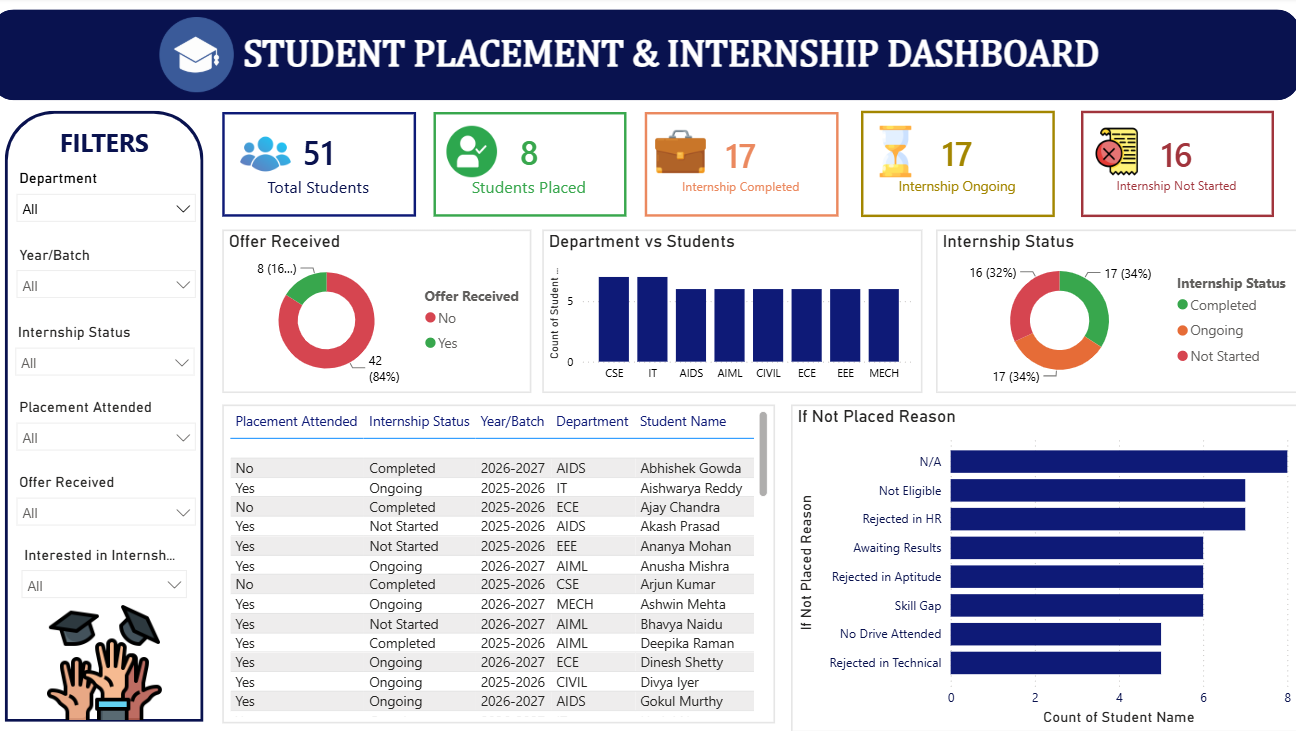

The page's visual inventory and layout, read from the dashboard file:
{"tool":"powerbi","page":{"name":"Page 1","canvas":[1280,720],"ordinal":0},"visuals":[{"type":"cardVisual","fields":{"Data":["Sheet.Total Students"]},"box":[226.1,112.4,189.9,102.4],"z":0},{"type":"cardVisual","fields":{"Data":["Sheet.Students Placed"]},"box":[433.4,112.4,188.6,102.4],"z":1000},{"type":"cardVisual","fields":{"Data":["Sheet.Internship Completed"]},"box":[639.5,112.4,189.9,102.4],"z":2000},{"type":"cardVisual","fields":{"Data":["Sheet.Internship Ongoing"]},"box":[850.6,111.2,189.9,103.7],"z":3000},{"type":"cardVisual","fields":{"Data":["Sheet.Internship Not Started"]},"box":[1066.7,111.2,188.6,103.7],"z":4000},{"type":"shape","box":[0,12.5,1280.3,88.7],"z":5000},{"type":"textbox","box":[242.3,30,865.6,55],"z":6000},{"type":"shape","box":[13.5,111.3,194.4,598],"z":7000},{"type":"slicer","fields":{"Values":["Sheet.Department"]},"box":[14.7,163.9,195.7,74.6],"z":8000},{"type":"slicer","fields":{"Values":["Sheet.Year/Batch"]},"box":[14.7,238.5,195.7,73.4],"z":9000},{"type":"slicer","fields":{"Values":["Sheet.Internship Status"]},"box":[13.5,314.3,195.7,73.4],"z":10000},{"type":"slicer","fields":{"Values":["Sheet.Placement Attended"]},"box":[14.7,387.6,195.7,73.4],"z":11000},{"type":"slicer","fields":{"Values":["Sheet.Interested in Internship"]},"box":[19.6,531.9,182.2,73.4],"z":12000},{"type":"slicer","fields":{"Values":["Sheet.Offer Received"]},"box":[14.7,461,195.7,70.9],"z":13000},{"type":"donutChart","title":"Offer Received","fields":{"Category":["Sheet.Offer Received"],"Y":["CountNonNull(Sheet.Student Name)"]},"box":[226.1,227.3,302.3,159.9],"z":14000},{"type":"donutChart","title":"Internship Status","fields":{"Category":["Sheet.Internship Status"],"Y":["CountNonNull(Sheet.Student Name)"]},"box":[924.3,227.3,356,159.9],"z":15000},{"type":"clusteredColumnChart","title":"Department vs Students","fields":{"Category":["Sheet.Department"],"Y":["CountNonNull(Sheet.Student Name)"]},"box":[539.6,227.3,372.2,159.9],"z":16000},{"type":"clusteredBarChart","title":"If Not Placed Reason","fields":{"Category":["Sheet.If Not Placed Reason"],"Y":["CountNonNull(Sheet.Student Name)"]},"box":[783.1,398.4,497.1,321],"z":17000},{"type":"tableEx","fields":{"Values":["Sheet.Placement Attended","Sheet.Internship Status","Sheet.Year/Batch","Sheet.Department","Sheet.Student Name"]},"box":[226.1,398.4,540.8,312.3],"z":18000},{"type":"image","box":[242.1,128.4,52.6,50],"z":19000},{"type":"image","box":[443.9,126,52.6,50.1],"z":19001},{"type":"image","box":[648.1,126,52.6,50.1],"z":19002},{"type":"image","box":[858.4,126,52.6,50.1],"z":19003},{"type":"image","box":[1074.9,126,52.6,50.1],"z":19004},{"type":"image","box":[30.6,593.1,160.2,116.2],"z":19006},{"type":"image","box":[145.5,19.6,111.3,73.4],"z":19007}]}

Visuals, with their boxes in screenshot pixels (x1, y1, x2, y2), scaled from the page's 1280x720 canvas onto the 1296x731 screenshot:
cardVisual - Sheet.Total Students: pyautogui.locateOnScreen(229, 114, 421, 218)
cardVisual - Sheet.Students Placed: pyautogui.locateOnScreen(439, 114, 630, 218)
cardVisual - Sheet.Internship Completed: pyautogui.locateOnScreen(647, 114, 840, 218)
cardVisual - Sheet.Internship Ongoing: pyautogui.locateOnScreen(861, 113, 1054, 218)
cardVisual - Sheet.Internship Not Started: pyautogui.locateOnScreen(1080, 113, 1271, 218)
shape: pyautogui.locateOnScreen(0, 13, 1295, 103)
textbox: pyautogui.locateOnScreen(245, 30, 1122, 86)
shape: pyautogui.locateOnScreen(14, 113, 210, 720)
slicer - Sheet.Department: pyautogui.locateOnScreen(15, 166, 213, 242)
slicer - Sheet.Year/Batch: pyautogui.locateOnScreen(15, 242, 213, 317)
slicer - Sheet.Internship Status: pyautogui.locateOnScreen(14, 319, 212, 394)
slicer - Sheet.Placement Attended: pyautogui.locateOnScreen(15, 394, 213, 468)
slicer - Sheet.Interested in Internship: pyautogui.locateOnScreen(20, 540, 204, 615)
slicer - Sheet.Offer Received: pyautogui.locateOnScreen(15, 468, 213, 540)
"Offer Received" donutChart: pyautogui.locateOnScreen(229, 231, 535, 393)
"Internship Status" donutChart: pyautogui.locateOnScreen(936, 231, 1295, 393)
"Department vs Students" clusteredColumnChart: pyautogui.locateOnScreen(546, 231, 923, 393)
"If Not Placed Reason" clusteredBarChart: pyautogui.locateOnScreen(793, 404, 1295, 730)
tableEx - Sheet.Placement Attended x Sheet.Internship Status: pyautogui.locateOnScreen(229, 404, 776, 722)
image: pyautogui.locateOnScreen(245, 130, 298, 181)
image: pyautogui.locateOnScreen(449, 128, 503, 179)
image: pyautogui.locateOnScreen(656, 128, 709, 179)
image: pyautogui.locateOnScreen(869, 128, 922, 179)
image: pyautogui.locateOnScreen(1088, 128, 1142, 179)
image: pyautogui.locateOnScreen(31, 602, 193, 720)
image: pyautogui.locateOnScreen(147, 20, 260, 94)
